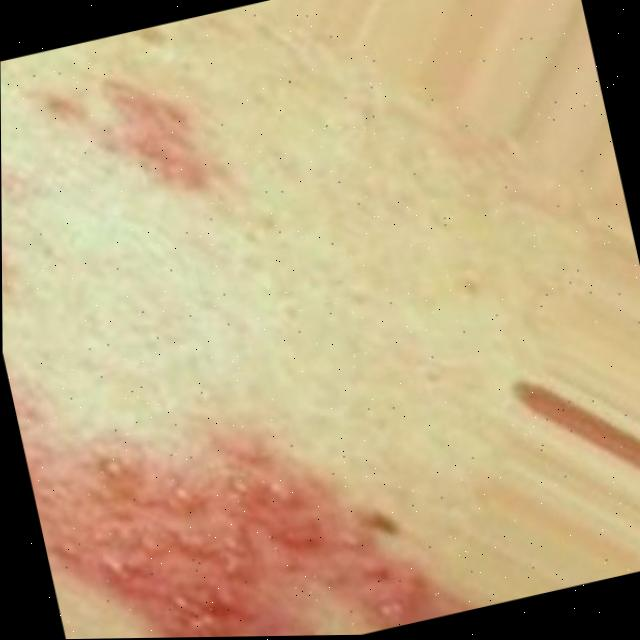Shingles: (3, 272, 448, 640), (49, 53, 225, 226), (1, 134, 27, 273)
